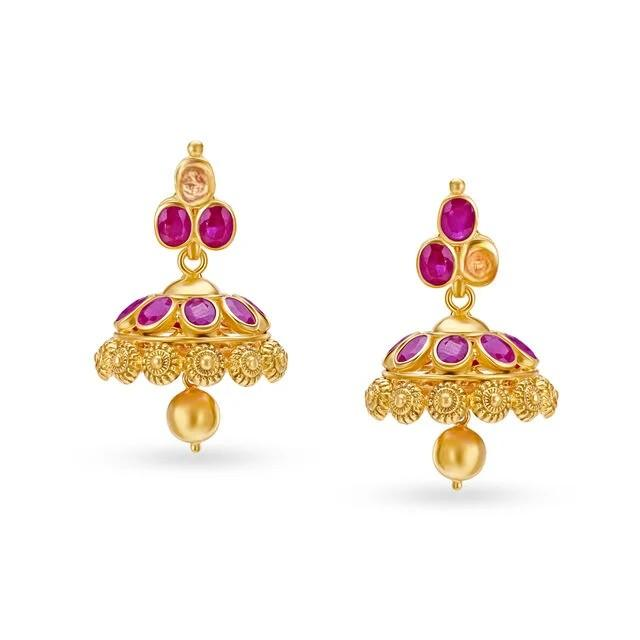missing gem: (465, 244, 497, 285), (181, 166, 207, 202)
